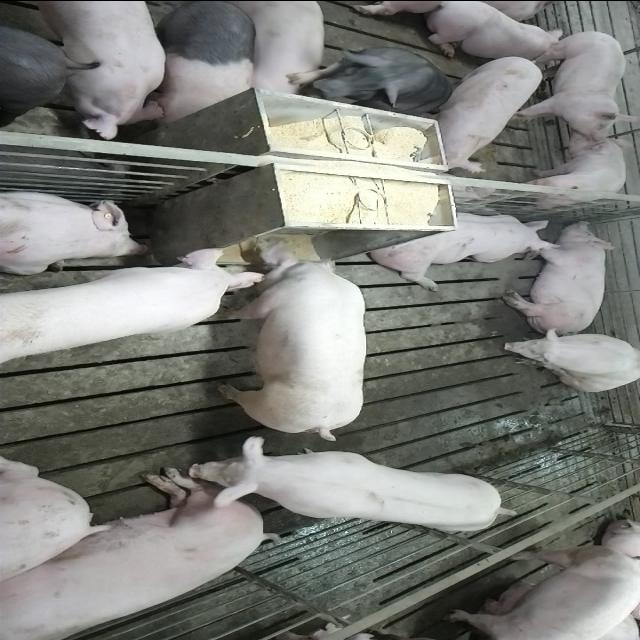Feeding: (0, 240, 267, 362), (209, 259, 361, 440)
Lateral_lying: (498, 220, 620, 334)
Sitting: (497, 326, 639, 391)
Standing: (198, 437, 516, 537), (1, 2, 174, 140), (443, 546, 640, 640), (422, 51, 544, 169), (142, 2, 256, 125), (506, 26, 624, 140), (202, 0, 334, 95), (301, 44, 451, 109), (512, 132, 626, 204), (2, 19, 82, 118)
Sternal_lying: (366, 208, 562, 286), (0, 185, 147, 272), (421, 3, 568, 60)
